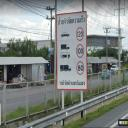speed_limit_100: (76, 43, 86, 59)
speed_limit_120: (75, 26, 85, 43)
speed_limit_80: (76, 60, 86, 77)
